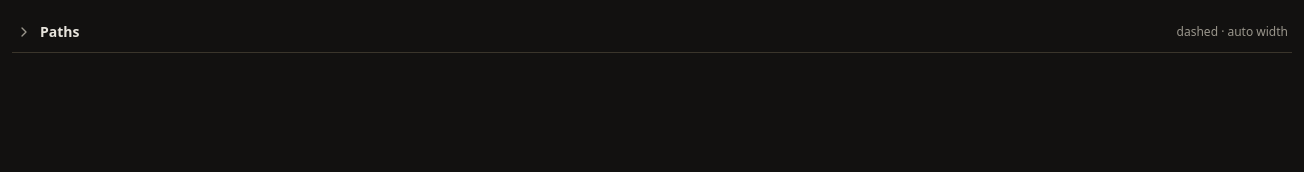
Test: Section › a foldable one starts folded with its summary, and its title opens it
The image size is (1304, 172).
Expected: the text "dashed · auto width" is shown, [1177,24,1288,40]
Expected: the text "inside" is not shown
Click the button "Paths dashed · auto width" at (60, 32), box [12,12,1292,52]
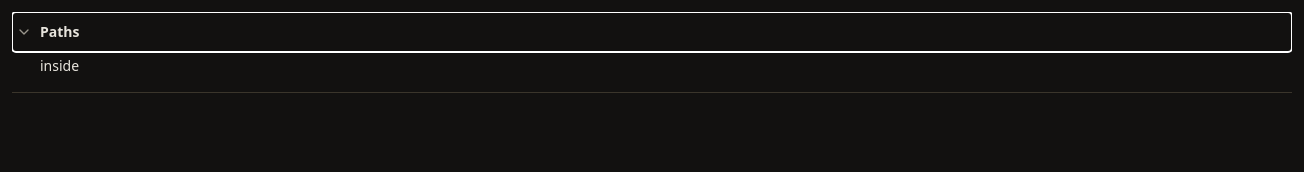
Now the text "inside" is shown, box [40,56,79,75]
Now the text "dashed · auto width" is gone
